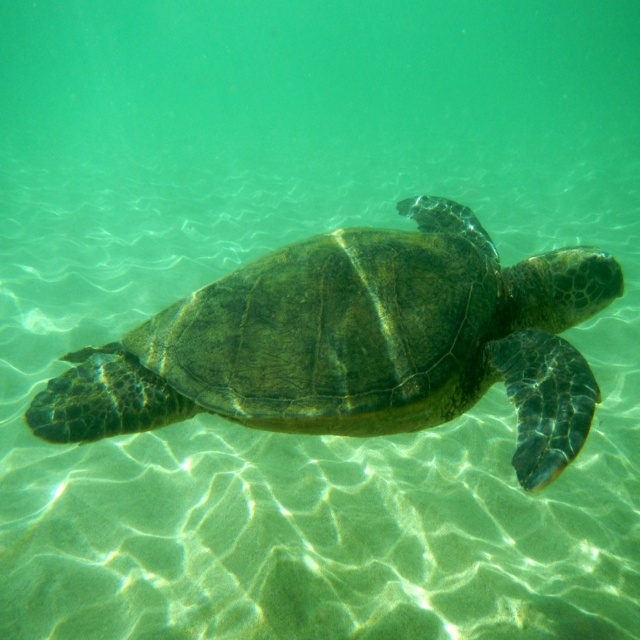Sea turtle: (18, 196, 624, 493)
